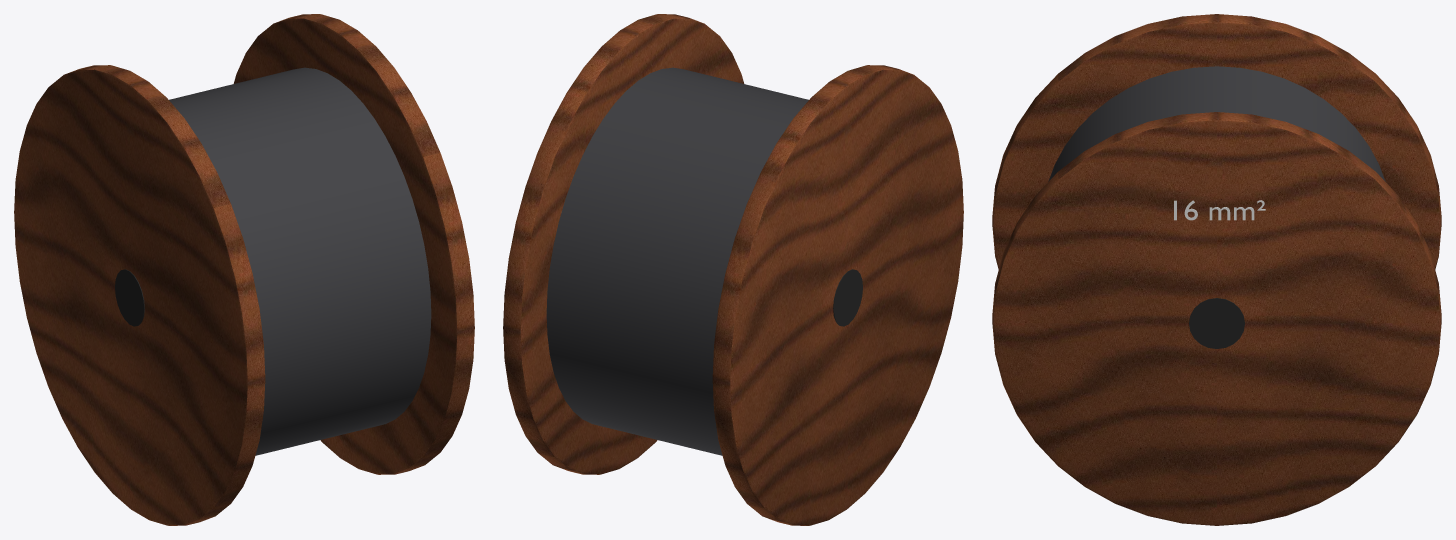
File: ELE-FIO-006.glb
3 views of the same model, side by side, from view 1: azimuth 30°, elevation 25°; view 2: azimuth 150°, elevation 25°; view 3: azimuth 270°, elevation 25° (orthographic). The views are drawn at different scales.
Visible parts, largest first — view 1: ELE-FIO-006_flange-1, ELE-FIO-006_cabo, ELE-FIO-006_flange1, ELE-FIO-006_furo-1; view 2: ELE-FIO-006_flange-1, ELE-FIO-006_cabo, ELE-FIO-006_flange1, ELE-FIO-006_furo-1; view 3: ELE-FIO-006_flange1, ELE-FIO-006_flange-1, ELE-FIO-006_cabo, ELE-FIO-006_furo1, ELE-FIO-006_texto.
Boxes of the visible parts, left/top/right/bottom form: ELE-FIO-006_flange-1: left=14, top=65, right=265, bottom=525; ELE-FIO-006_cabo: left=169, top=67, right=431, bottom=455; ELE-FIO-006_flange1: left=233, top=14, right=474, bottom=474; ELE-FIO-006_furo-1: left=115, top=269, right=144, bottom=326; ELE-FIO-006_flange-1: left=712, top=65, right=963, bottom=525; ELE-FIO-006_cabo: left=546, top=67, right=808, bottom=455; ELE-FIO-006_flange1: left=503, top=14, right=744, bottom=474; ELE-FIO-006_furo-1: left=833, top=269, right=862, bottom=326; ELE-FIO-006_flange1: left=992, top=112, right=1441, bottom=525; ELE-FIO-006_flange-1: left=992, top=14, right=1441, bottom=269; ELE-FIO-006_cabo: left=1048, top=66, right=1385, bottom=181; ELE-FIO-006_furo1: left=1189, top=298, right=1244, bottom=348; ELE-FIO-006_texto: left=1174, top=200, right=1265, bottom=220.
Size of the model in its own units: 0.362 by 0.64 by 0.64.
Materials: 4 (1 with a texture image).
